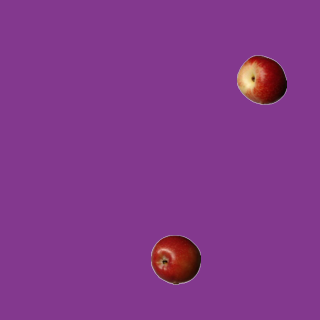Apple Braeburn: (150, 234, 200, 284)
Nectarine: (236, 54, 286, 104)
